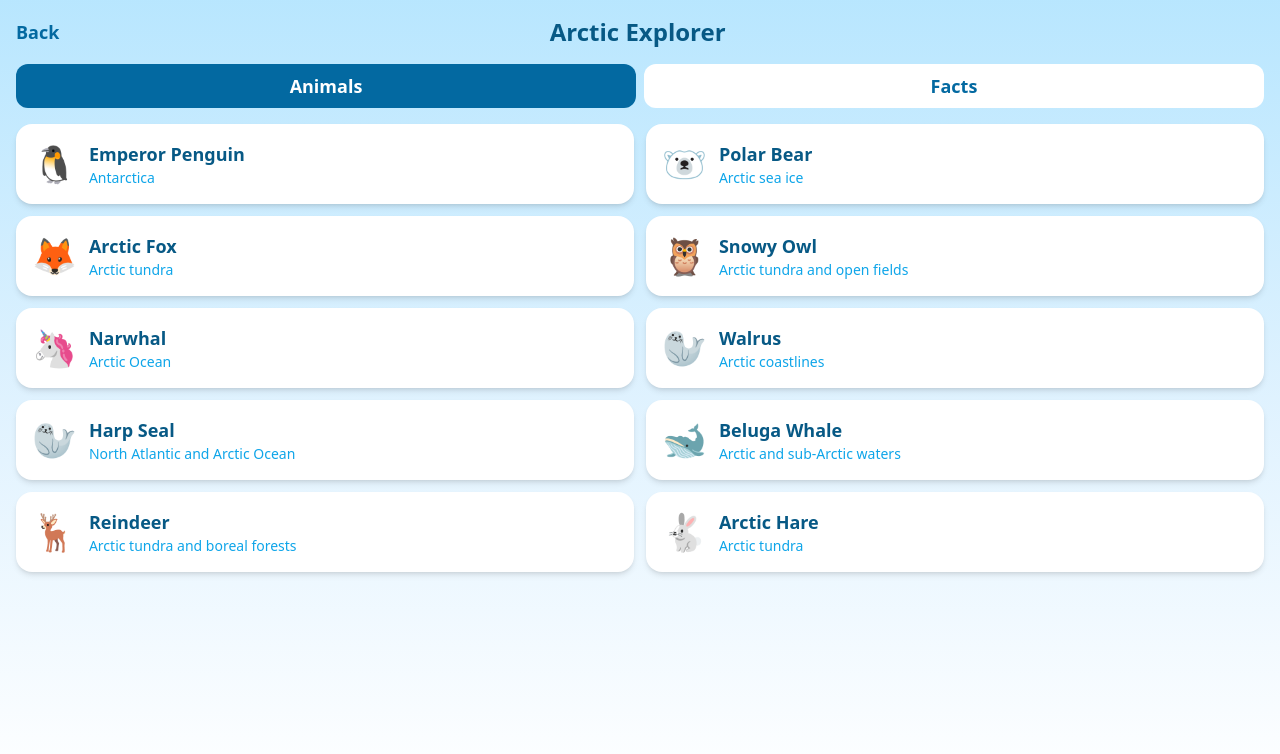
Test: ExploreScreen › switches to facts tab
The image size is (1280, 754).
What coordinates should you click on to do the following:
click the button "Facts"
I would click on:
 (954, 86)
Its box is [644,64,1264,108].
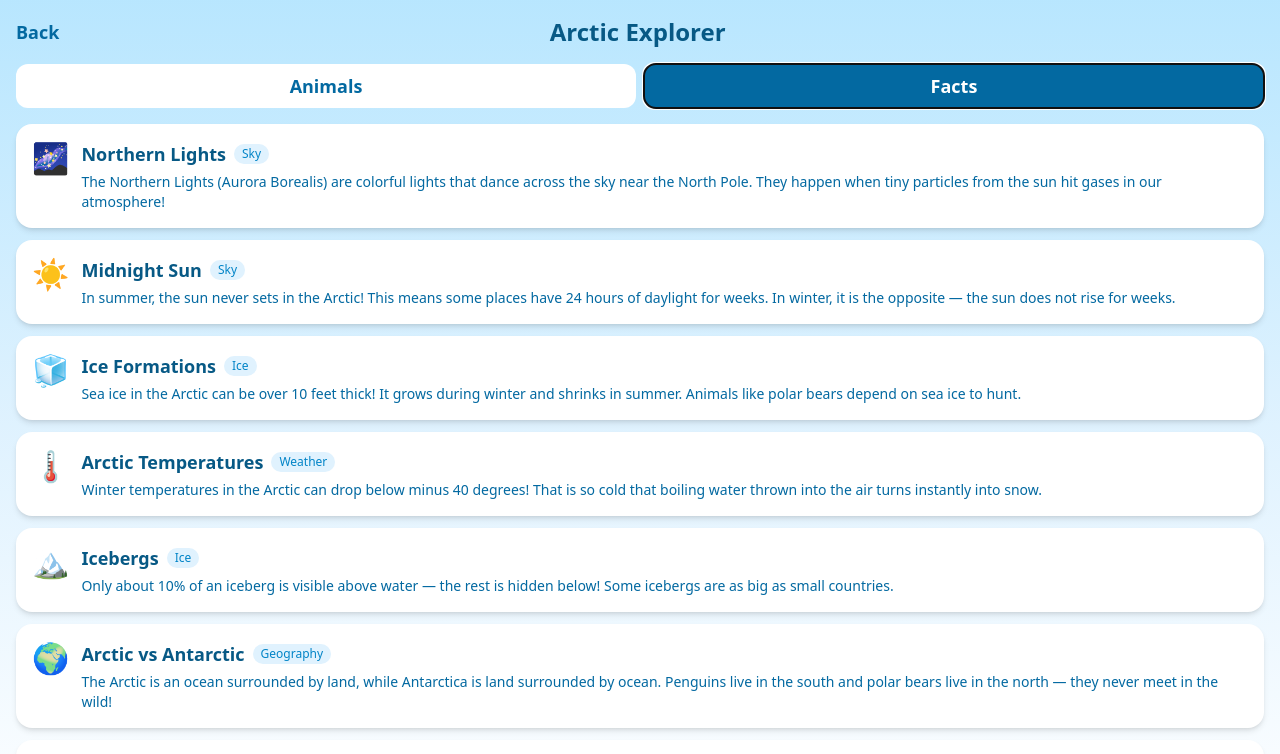
Expected: the heading "Northern Lights" is shown, [81,140,226,168]
Expected: the heading "Midnight Sun" is shown, [81,256,202,284]
